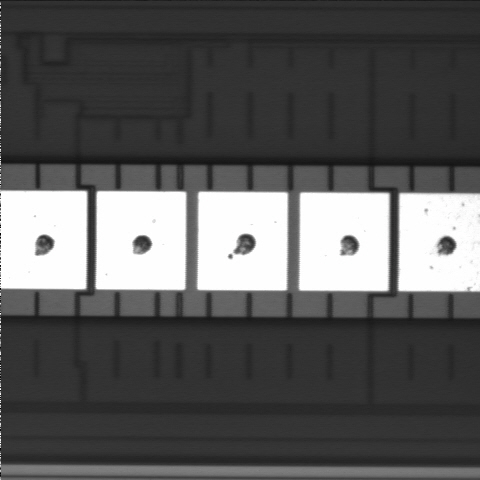pad: (197, 192, 288, 290), (96, 191, 186, 290), (299, 193, 389, 291)
